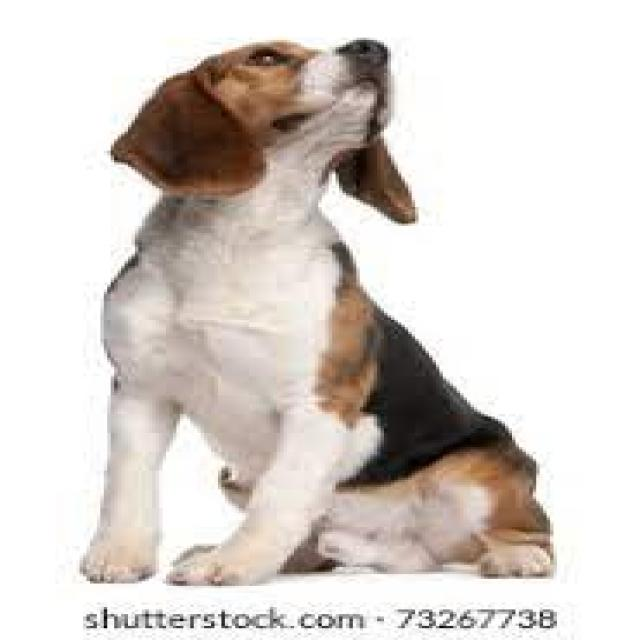Dog: (68, 34, 570, 588)
